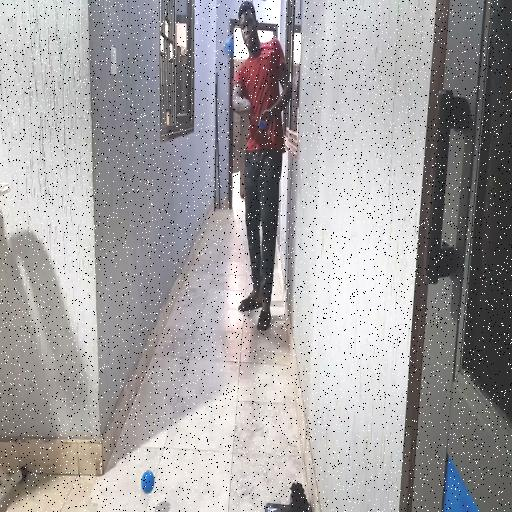plastic-ball: (222, 33, 236, 61)
